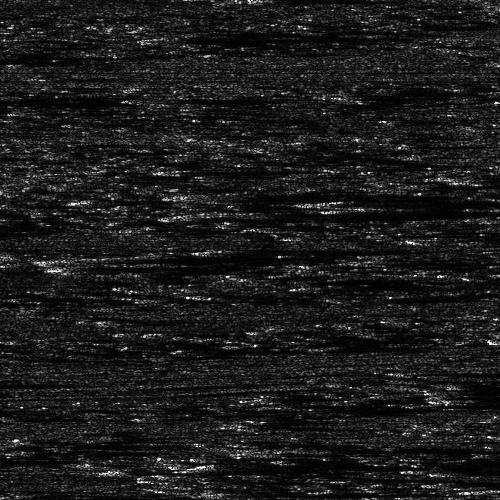rock: (22, 243, 189, 266), (0, 257, 156, 280), (385, 388, 500, 401), (108, 31, 223, 42), (423, 171, 500, 186), (156, 208, 261, 219), (297, 194, 380, 207), (444, 331, 500, 348), (173, 188, 256, 199), (395, 235, 488, 242), (179, 245, 272, 252), (162, 463, 245, 470), (470, 53, 500, 68), (421, 479, 462, 488), (373, 368, 436, 373), (454, 486, 500, 491), (204, 489, 235, 494), (145, 168, 186, 171)
shadow: (106, 243, 312, 266), (68, 257, 235, 280), (209, 208, 500, 219), (215, 188, 500, 199), (166, 31, 379, 42), (339, 194, 500, 207), (204, 463, 500, 470), (0, 91, 82, 108), (226, 245, 399, 252), (220, 489, 419, 494), (442, 479, 500, 488), (405, 368, 500, 373), (464, 388, 500, 401), (470, 171, 500, 186), (442, 235, 500, 242), (166, 168, 288, 171), (0, 146, 7, 167)
